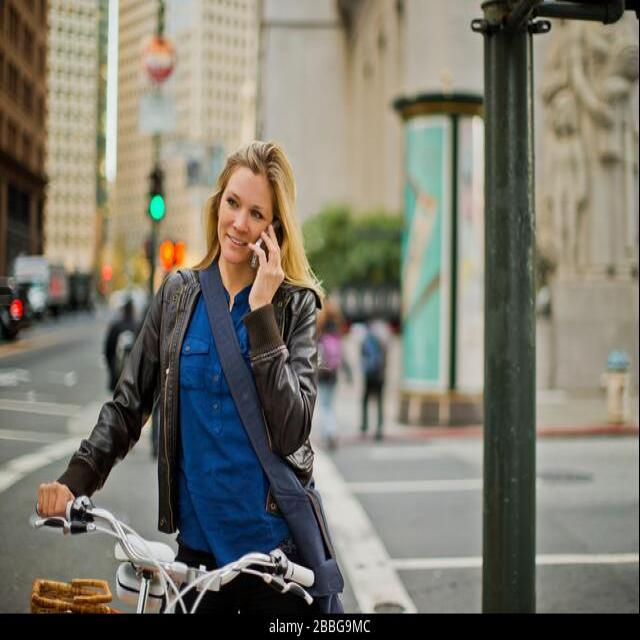Not Wearing Helmet: (204, 122, 305, 308)
Usage Of Phone While Riding: (144, 156, 346, 394)
